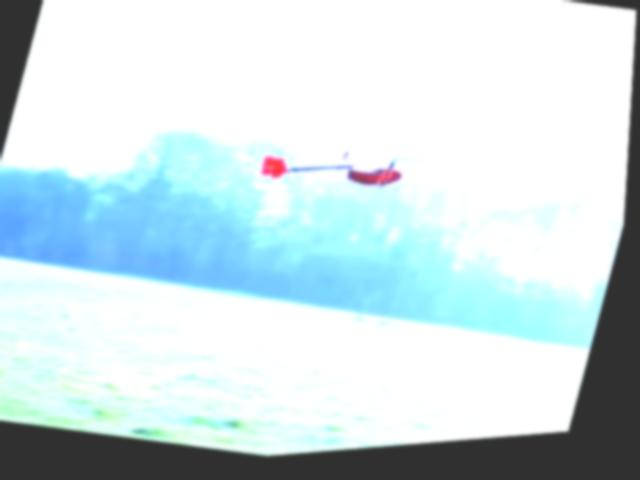uav: (255, 130, 417, 217)
